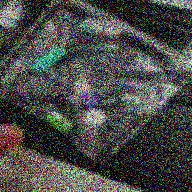러키펜정: (83, 109, 106, 127)
씨엠지세파클러캡슐: (73, 80, 99, 110)
에르도캡슐: (30, 46, 67, 74)
휴티렌정: (44, 110, 74, 133)
